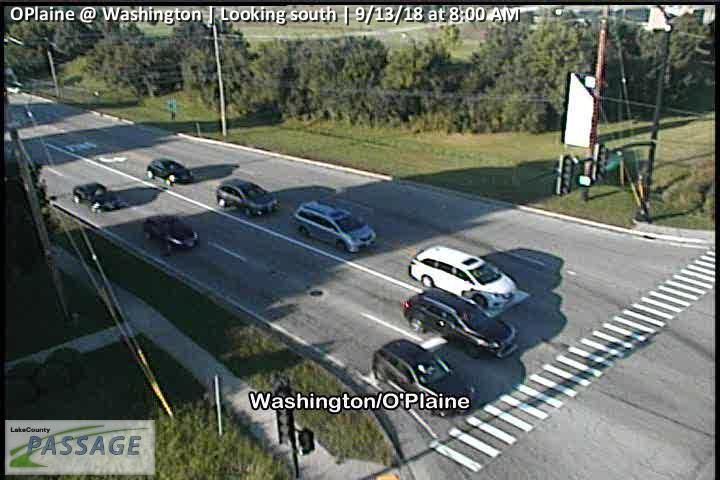SUV: (372, 336, 475, 417), (399, 288, 515, 358), (407, 244, 517, 308), (292, 199, 377, 253), (216, 178, 279, 217), (144, 215, 200, 251), (73, 182, 120, 214), (146, 158, 194, 186)
